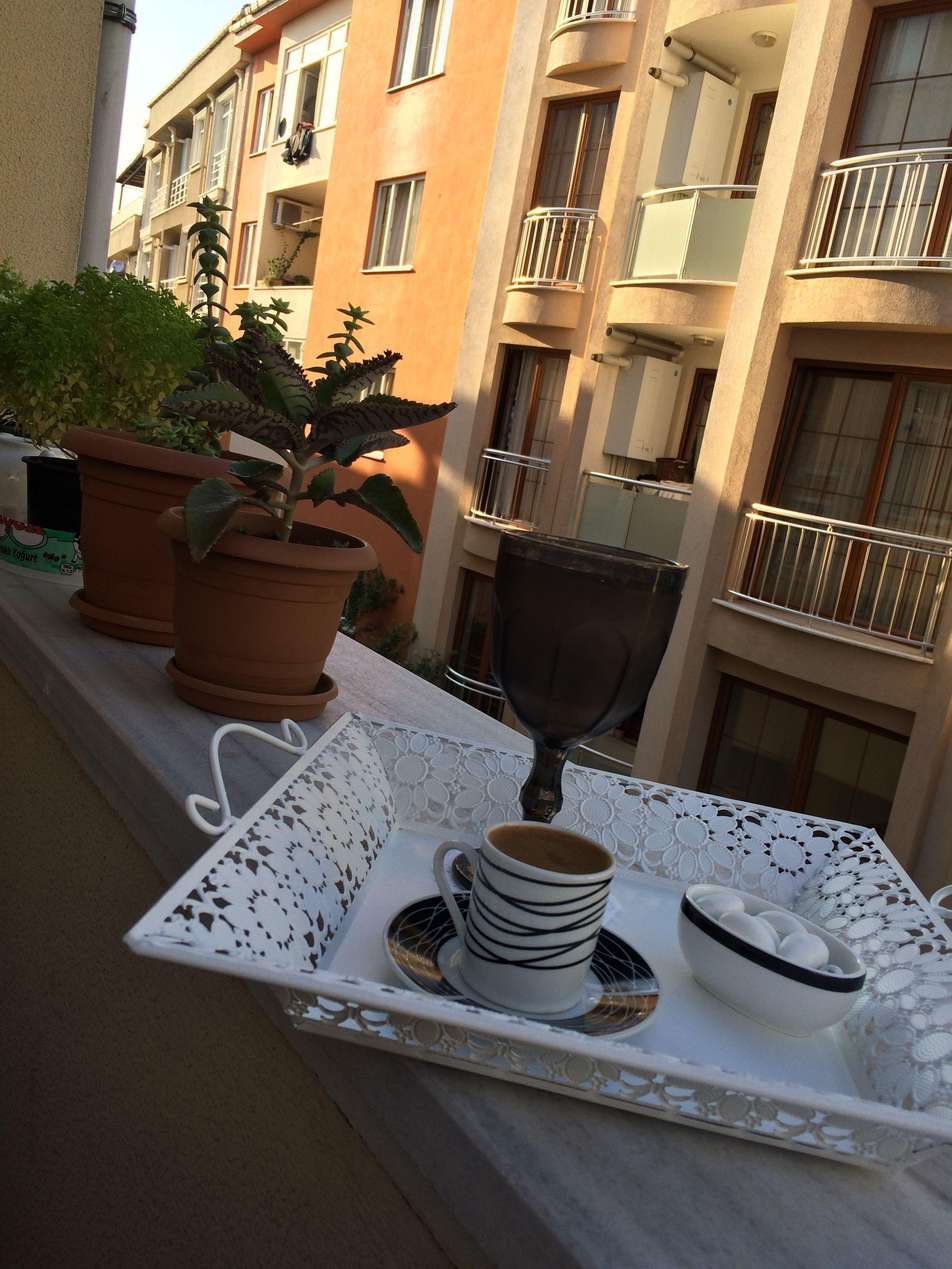cup-handle: (437, 825, 622, 1021)
glass-wine: (484, 519, 690, 809)
